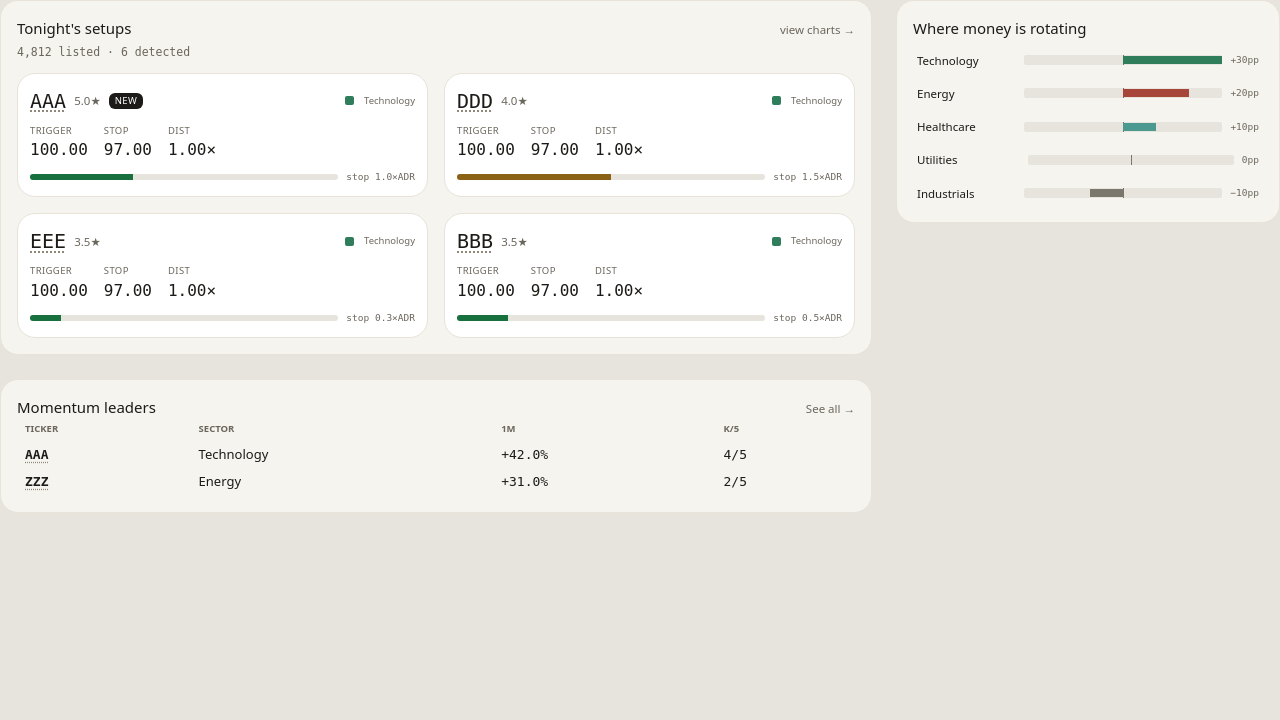
Test: Board — opening the sheet collapses the rail › collapses the rail while the sheet is open and keeps the hero grid
Expected: the heading "Where money is rotating" is shown, [913,18,1087,38]
Click the button "AAA" next to "5.0" at (48, 101), box [30,86,66,116]
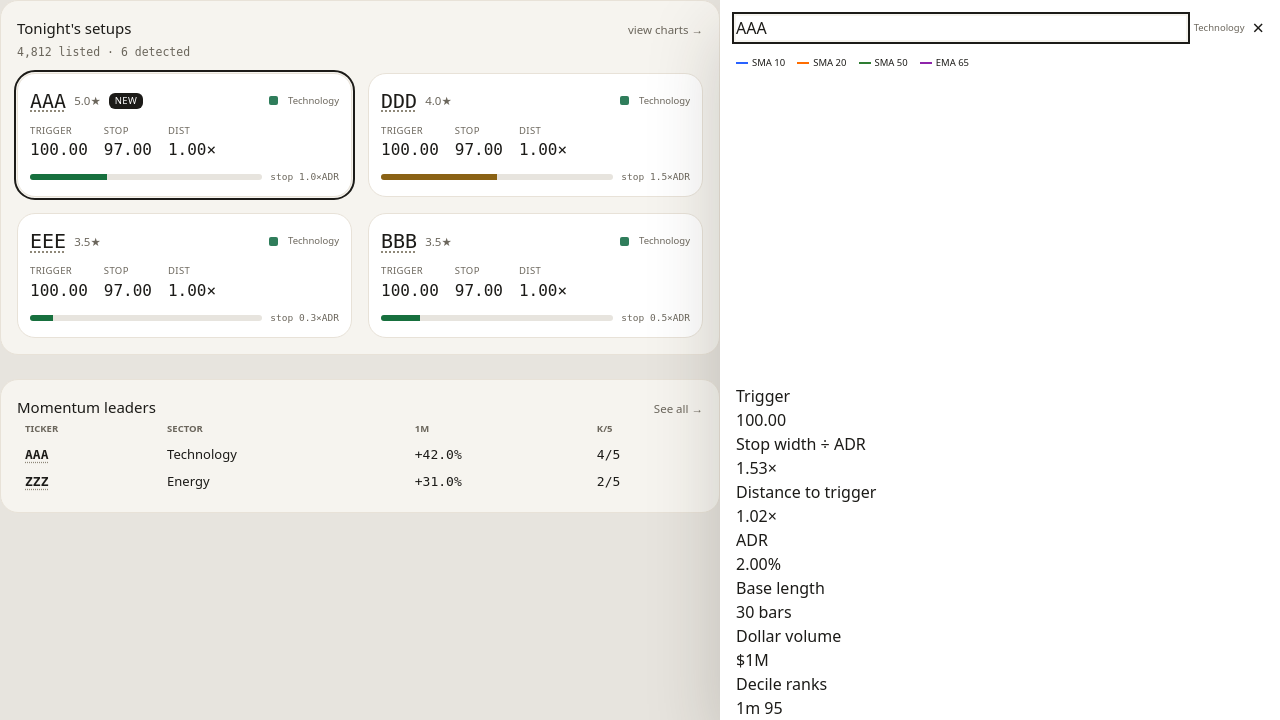
Expected: the element "AAA" is shown, [17,73,352,197]
Result: the heading "AAA" is shown at [736,16,1186,40]
Result: the heading "Where money is rotating" is gone
